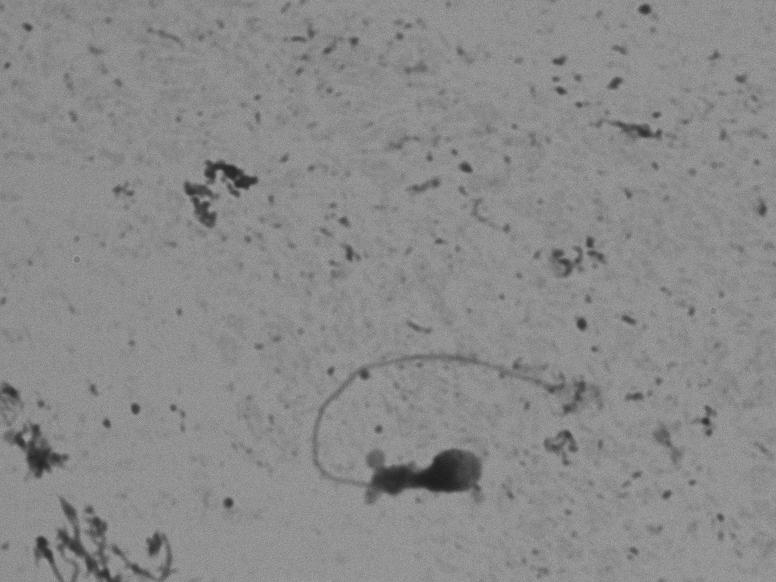Abnormal: (282, 325, 618, 523)
